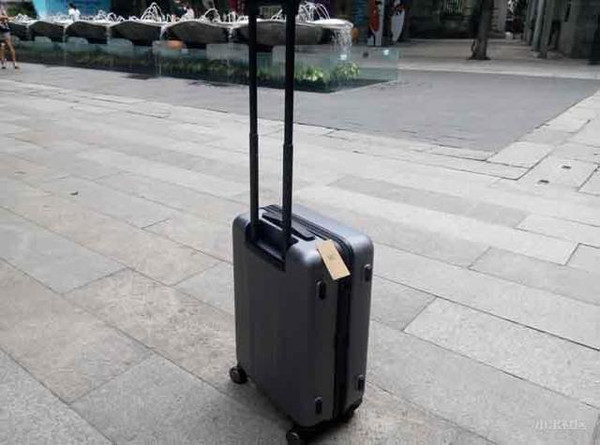suitcase: (230, 1, 375, 445)
